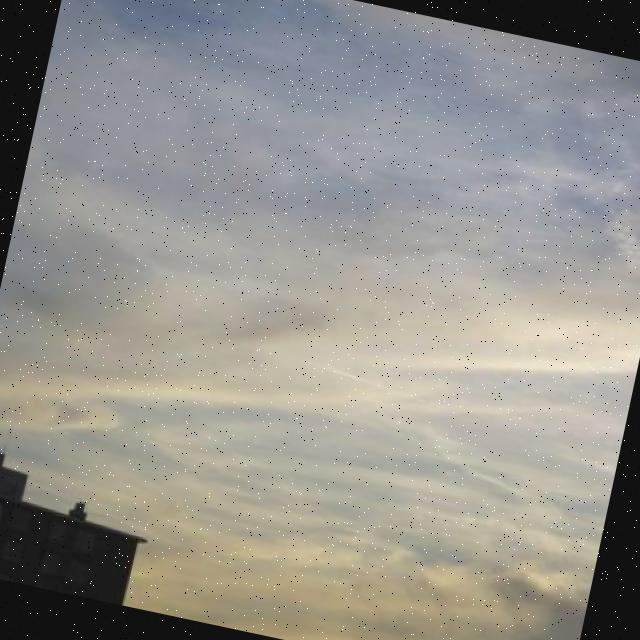Ct: (1, 1, 640, 553)
